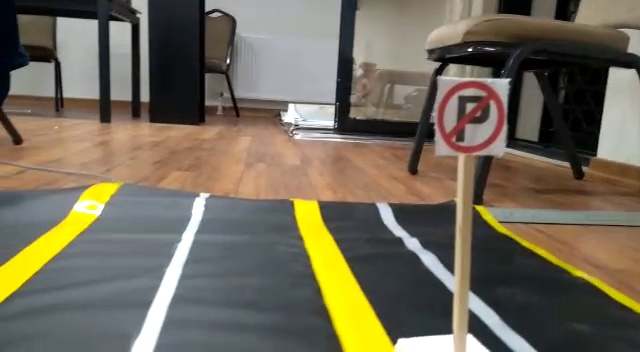park_yapilmaz: (432, 79, 508, 155)
